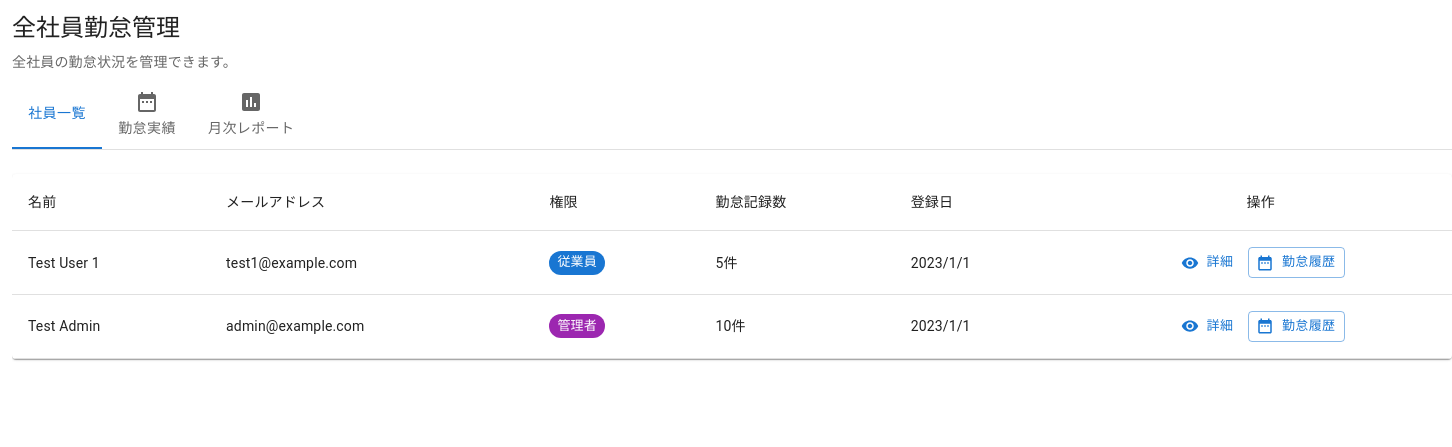
UserList Component › displays monthly report when switching to monthly report tab
Expected: the text "Test User 1" is shown, top-left (12, 231), bottom-right (210, 295)
# Click on monthly report tab
Click the tab "月次レポート" at coordinates (251, 113), box top-left (192, 77), bottom-right (310, 149)
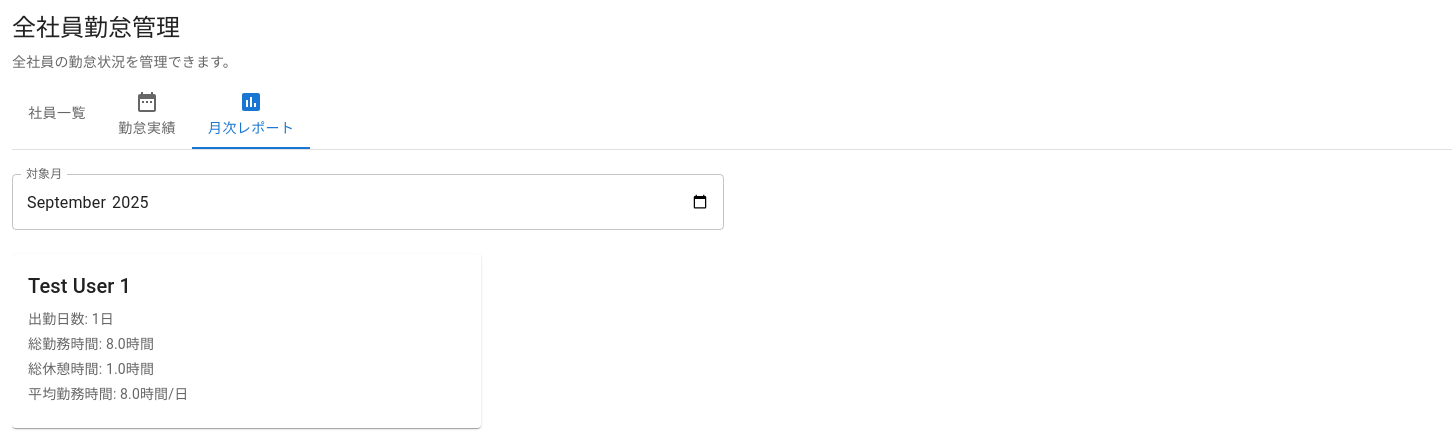
Expected: the text "対象月" is shown 2 times
